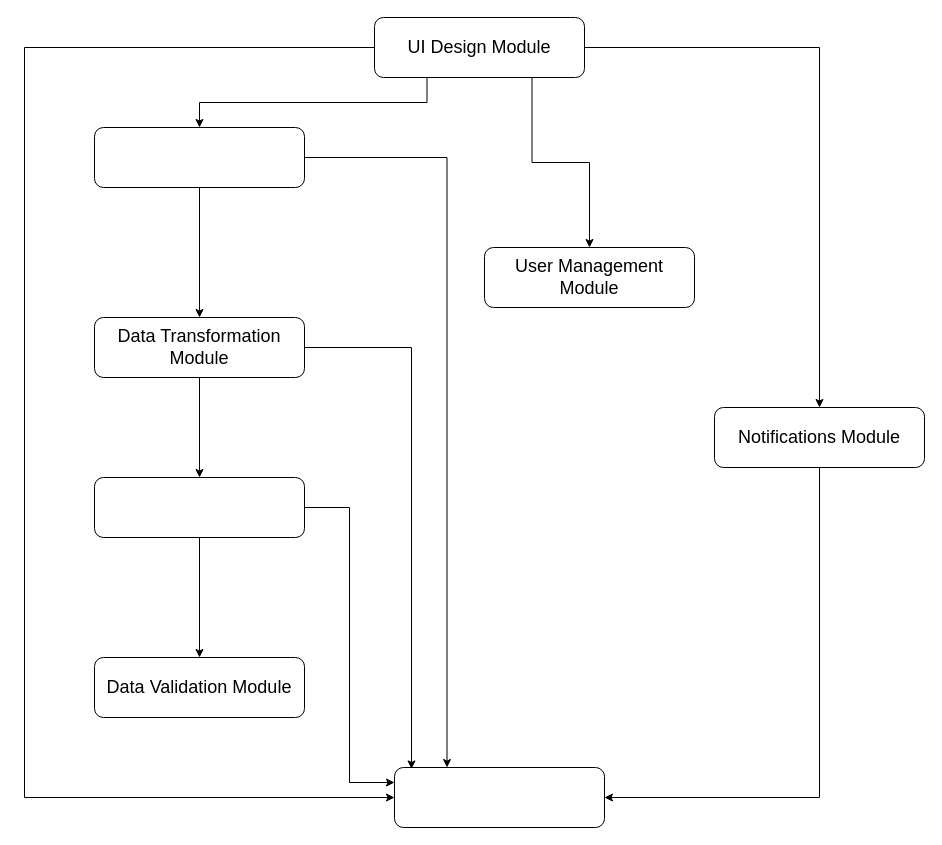
Image size: 942x845. Some labels were removed from this diagram. The shapes that lost their labels are listed below. From the top down, each one's centre as x and y in pixels, then its label:
At pixel 199 157: "Visualization Module".
At pixel 199 507: "Data Ingestion Module".
At pixel 499 797: "Data Storage Module".
